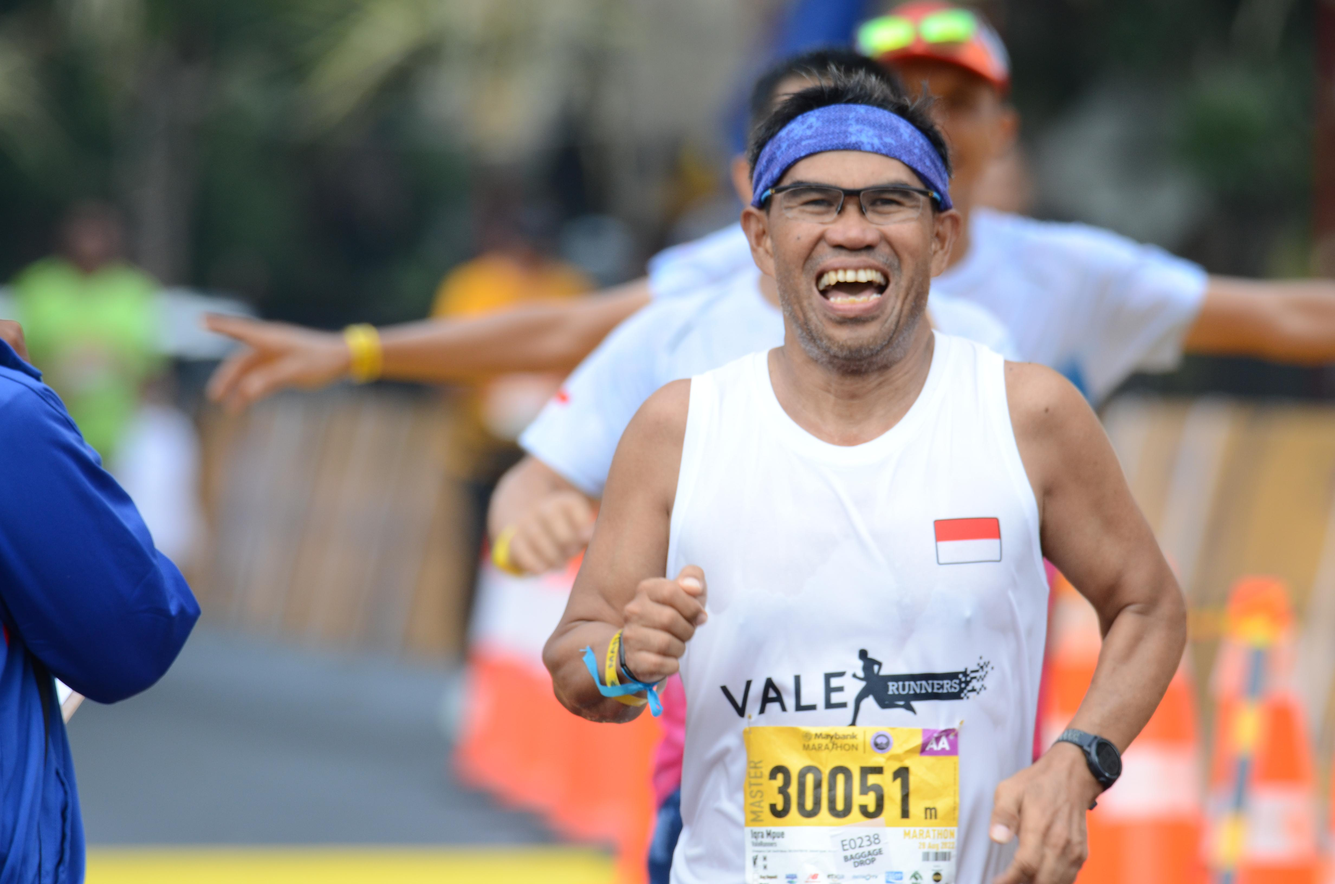bib: (745, 721, 953, 884)
